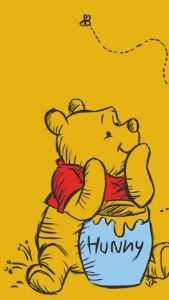bear: (29, 95, 155, 292)
